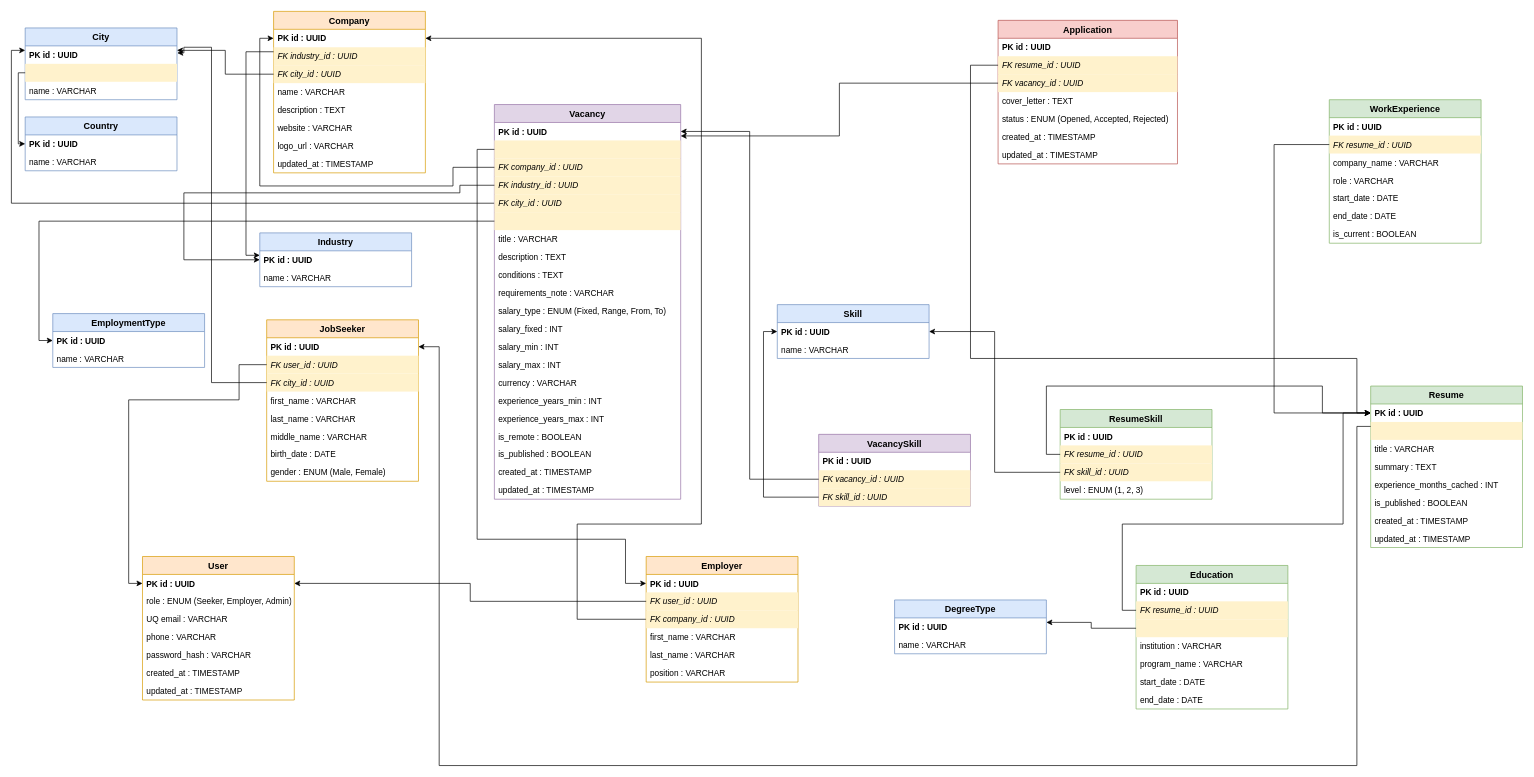
This 1534x777 diagram has some shape labels left out. The centre of each missing label's shape, as x and y in pixels:
FK country_id : UUID: point (101, 72)
FK degree_type_id : UUID: point (1212, 628)
FK employer_id : UUID: point (587, 149)
FK employment_type_id : UUID: point (587, 221)
FK job_seeker_id : UUID: point (1446, 431)
